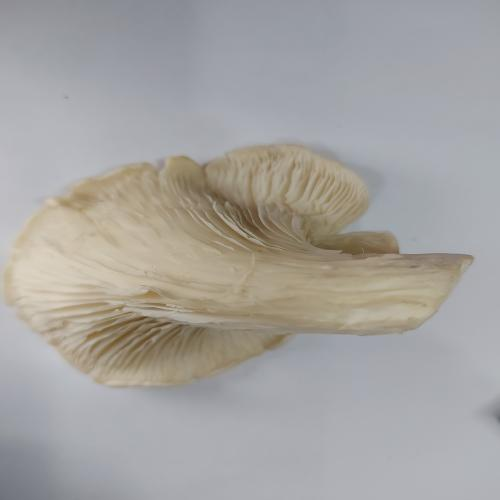Oyster Mushroom: (2, 142, 474, 388)
